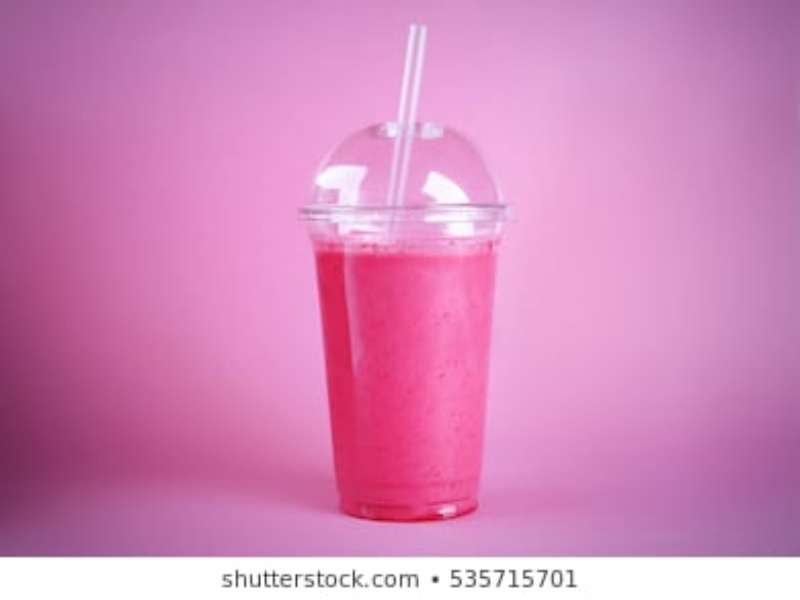plastic-cup: (291, 118, 513, 521)
straw: (380, 23, 427, 235)
